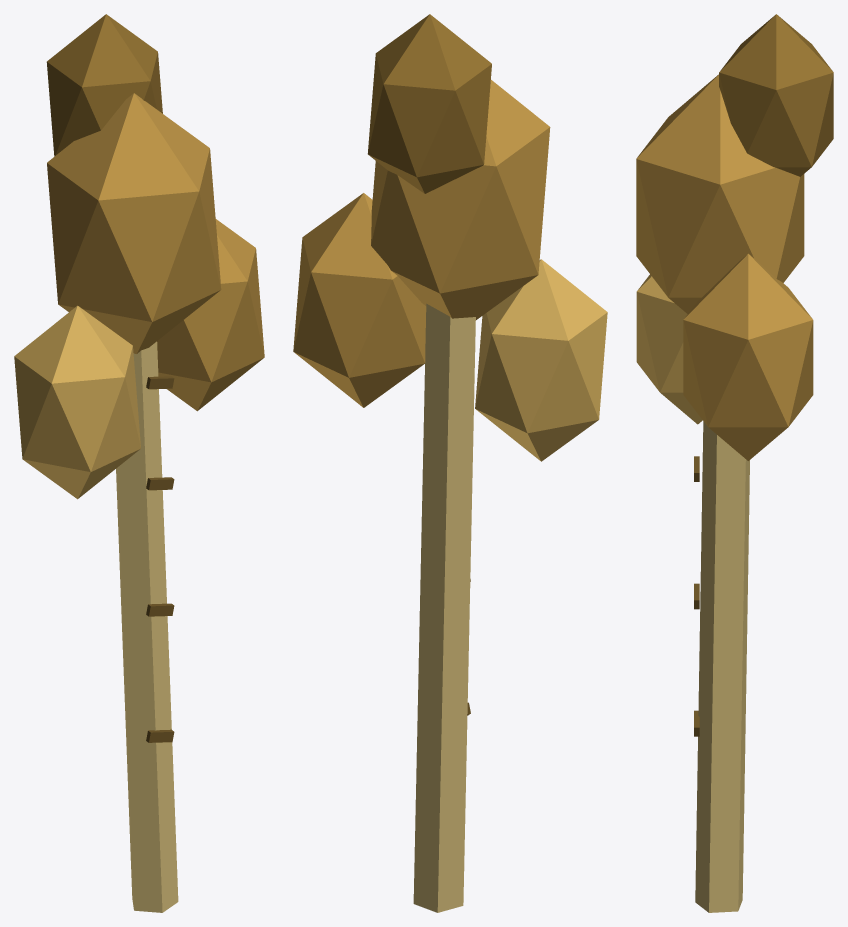
The model's file is gold_birch.glb.
The picture shows the model from 3 angles, left to right: view 1: azimuth 30°, elevation 25°; view 2: azimuth 150°, elevation 25°; view 3: azimuth 270°, elevation 25°; orthographic projection. The views are drawn at different scales.
Visible parts, largest first — view 1: golden leaves.006, gilded trunk.002, golden leaves.008, golden leaves.007, golden leaves.009; view 2: gilded trunk.002, golden leaves.006, golden leaves.008, golden leaves.007, golden leaves.009; view 3: golden leaves.006, gilded trunk.002, golden leaves.007, golden leaves.009, golden leaves.008.
Part boxes in pixels (box(x1,y1,x2,y2)): golden leaves.006: box(47, 93, 221, 353); gilded trunk.002: box(116, 341, 178, 912); golden leaves.008: box(14, 305, 140, 499); golden leaves.007: box(157, 219, 264, 411); golden leaves.009: box(46, 14, 162, 156); gilded trunk.002: box(413, 303, 475, 912); golden leaves.006: box(371, 80, 550, 319); golden leaves.008: box(475, 259, 607, 461); golden leaves.007: box(293, 193, 426, 407); golden leaves.009: box(367, 14, 491, 193); golden leaves.006: box(636, 74, 804, 313); gilded trunk.002: box(695, 421, 749, 912); golden leaves.007: box(683, 253, 813, 460); golden leaves.009: box(719, 14, 833, 176); golden leaves.008: box(636, 274, 702, 424).
Size of the model in its own units: 0.5361 by 1.73 by 0.3518.
